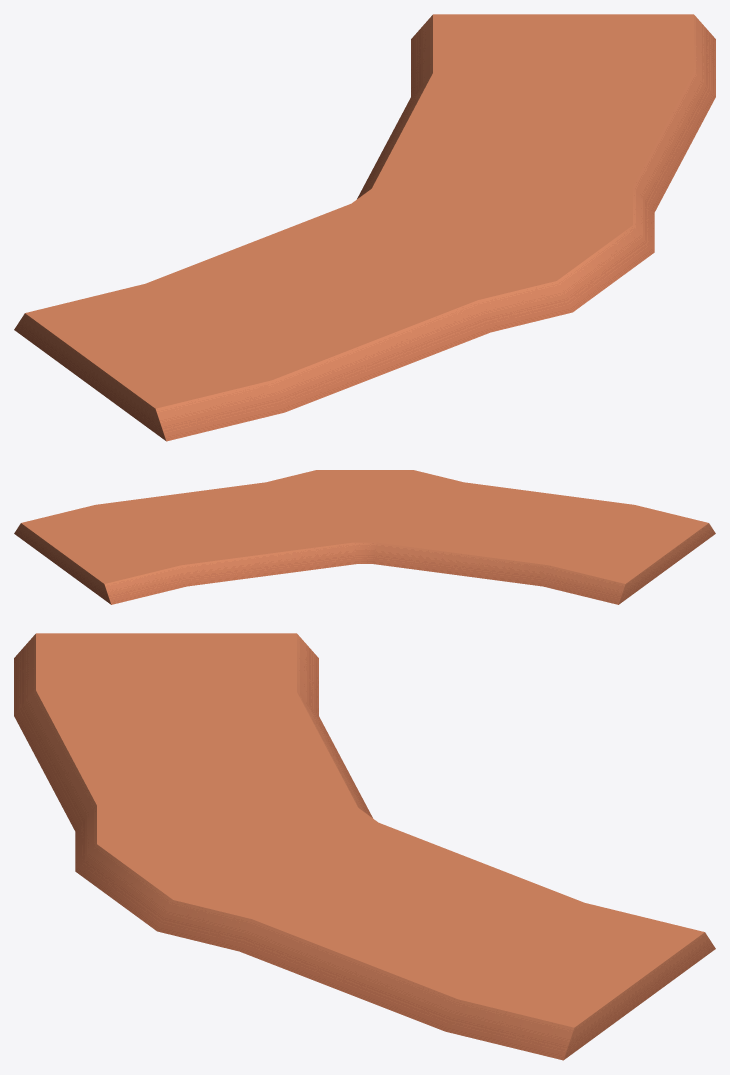
The model's file is path-corner.glb.
3 views of the same model, one above another, from view 1: azimuth 30°, elevation 25°; view 2: azimuth 150°, elevation 25°; view 3: azimuth 270°, elevation 25° (orthographic). The views are drawn at different scales.
Parts seen in each view (by area): view 1: path-corner; view 2: path-corner; view 3: path-corner.
Boxes of the visible parts, left/top/right/bottom form: path-corner: left=14, top=14, right=715, bottom=441; path-corner: left=14, top=470, right=715, bottom=604; path-corner: left=14, top=633, right=715, bottom=1060.
Size of the model in its own units: 0.8708 by 0.025 by 0.6423.
Materials: 1 (1 with a texture image).
